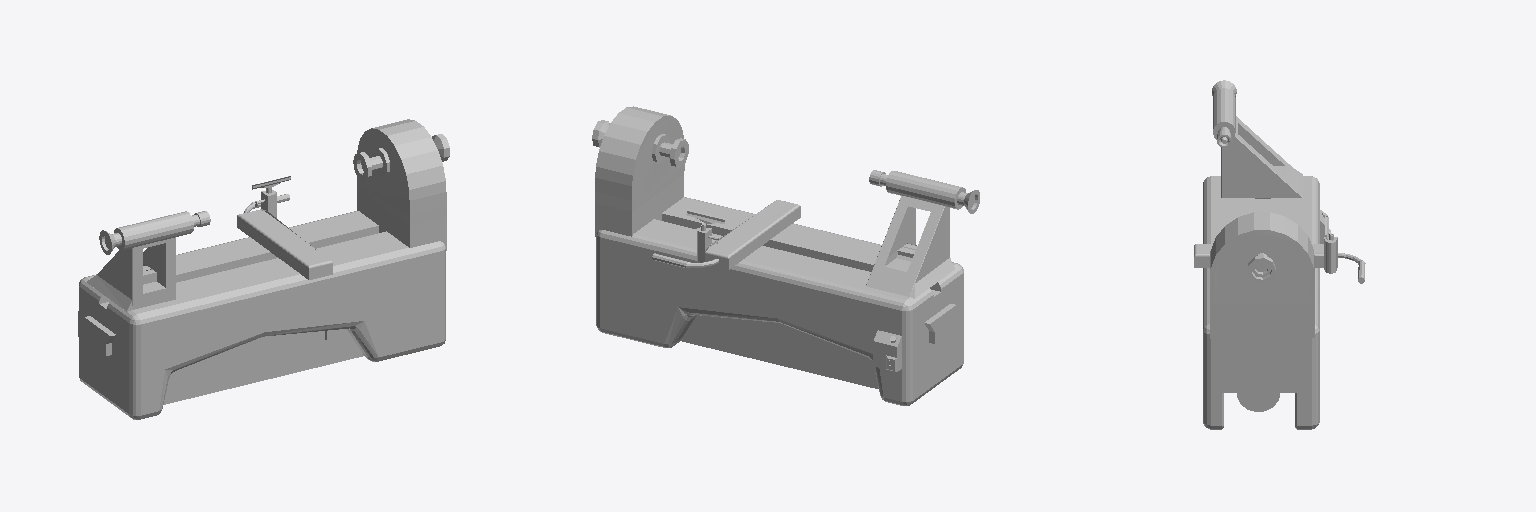
File: tokarniy_stanok-v1.obj
The picture shows the model from 3 angles: view 1: azimuth 30°, elevation 25°; view 2: azimuth 150°, elevation 25°; view 3: azimuth 270°, elevation 25°; orthographic projection.
Parts seen in each view (by area): view 1: main, 1st_part, 2nd_part, mid_block, 1st_part_add; view 2: main, 1st_part, 2nd_part, mid_block, 1st_part_add, tik_tik; view 3: main, 1st_part, 2nd_part, mid_block, fuel, 1st_part_add.
Boxes of the visible parts, x1=… form: main: x1=79, y1=211, x2=445, y2=419; 1st_part: x1=357, y1=119, x2=446, y2=250; 2nd_part: x1=87, y1=211, x2=210, y2=311; mid_block: x1=237, y1=176, x2=332, y2=279; 1st_part_add: x1=353, y1=134, x2=449, y2=181; main: x1=596, y1=197, x2=963, y2=405; 1st_part: x1=595, y1=106, x2=684, y2=236; 2nd_part: x1=866, y1=170, x2=979, y2=298; mid_block: x1=686, y1=200, x2=800, y2=269; 1st_part_add: x1=592, y1=120, x2=688, y2=167; tik_tik: x1=873, y1=330, x2=901, y2=371; main: x1=1203, y1=176, x2=1319, y2=429; 1st_part: x1=1210, y1=212, x2=1314, y2=338; 2nd_part: x1=1212, y1=80, x2=1302, y2=198; mid_block: x1=1194, y1=216, x2=1337, y2=273; fuel: x1=1237, y1=393, x2=1279, y2=411; 1st_part_add: x1=1248, y1=253, x2=1275, y2=282.
Bounding box in the file's own units: 7.03 × 3.82 × 2.92.